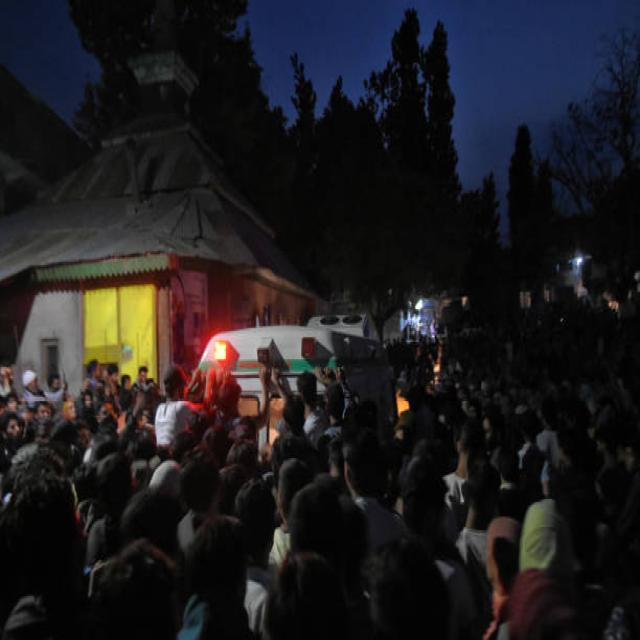ambulance: (204, 326, 326, 376), (313, 300, 370, 339)
